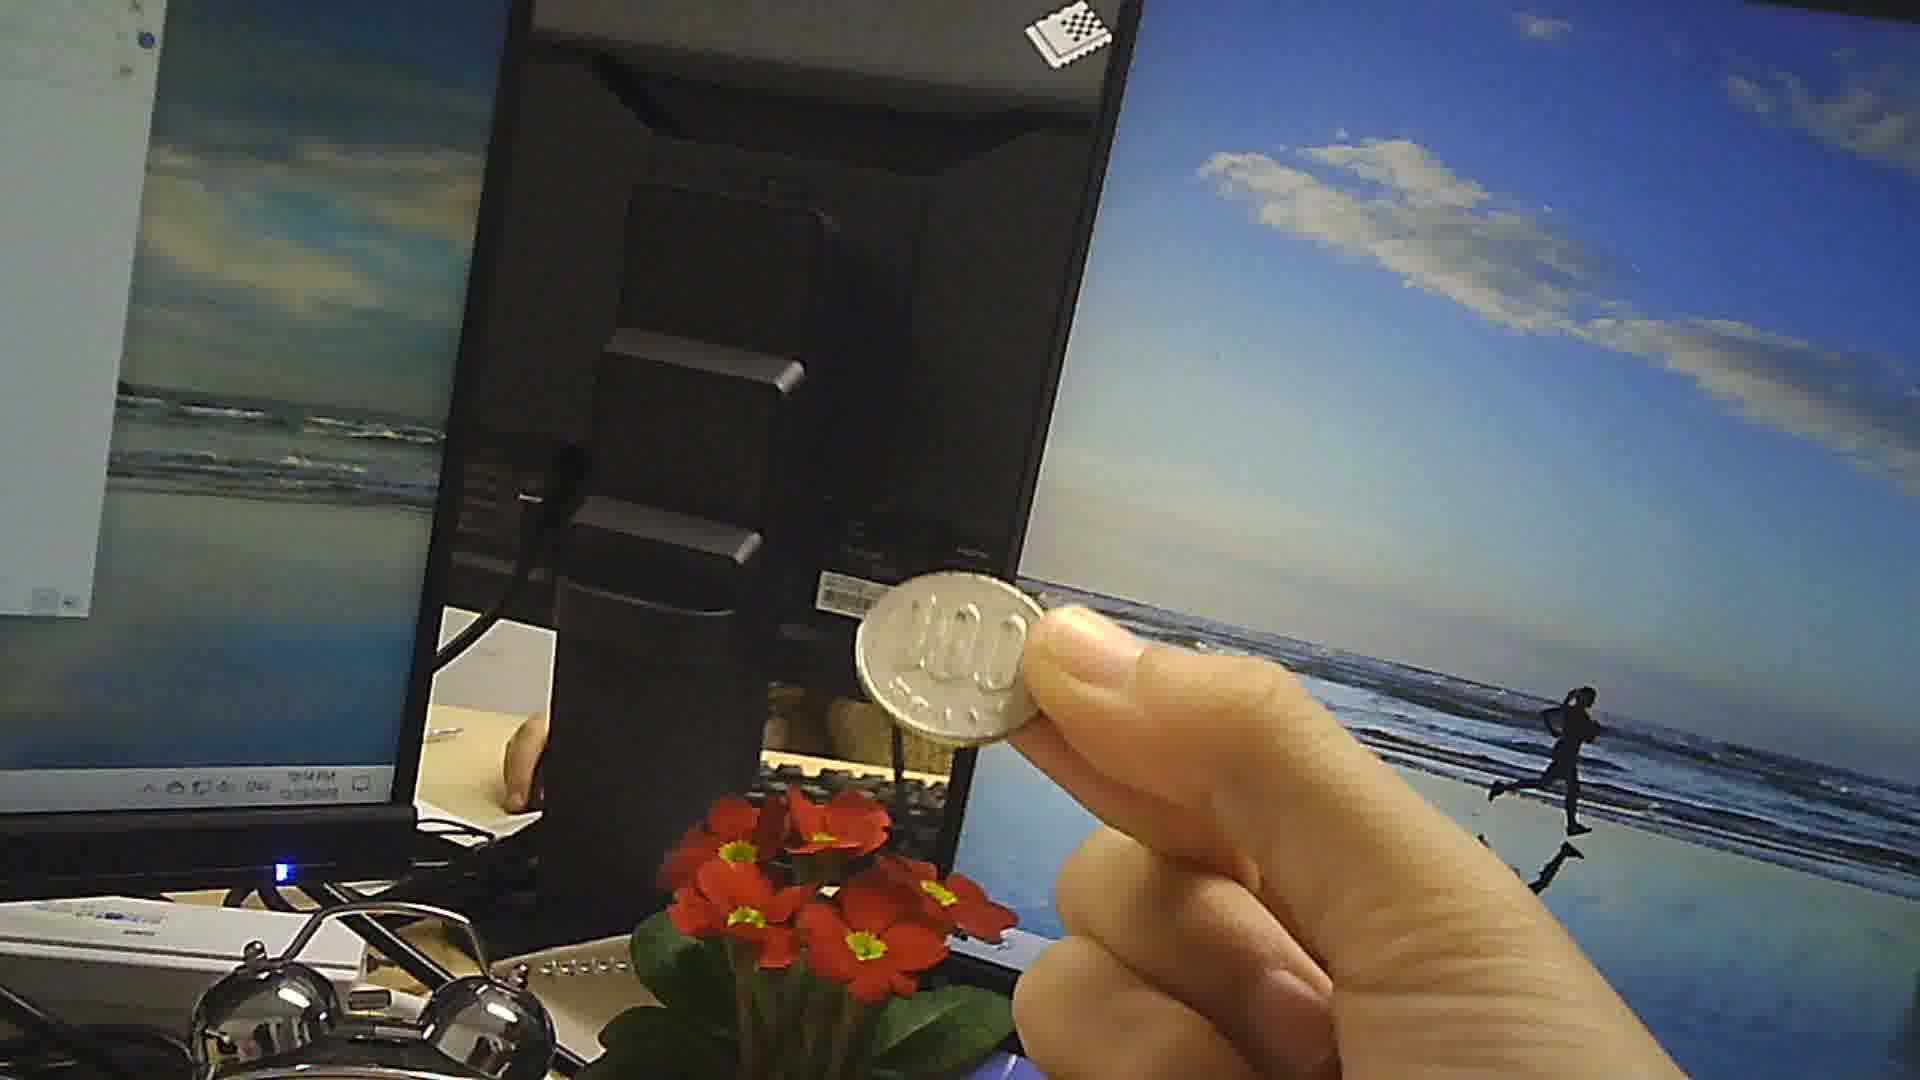100 Yen: (847, 562, 1059, 750)
